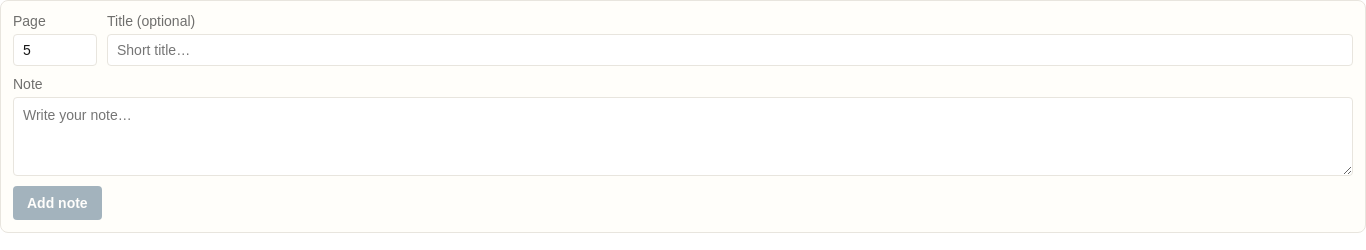
Test: NoteForm › submit button is enabled when content is filled in
Step 1. Type "Some content" into the text box labelled "Note" → (683, 137), box [13, 97, 1353, 176]
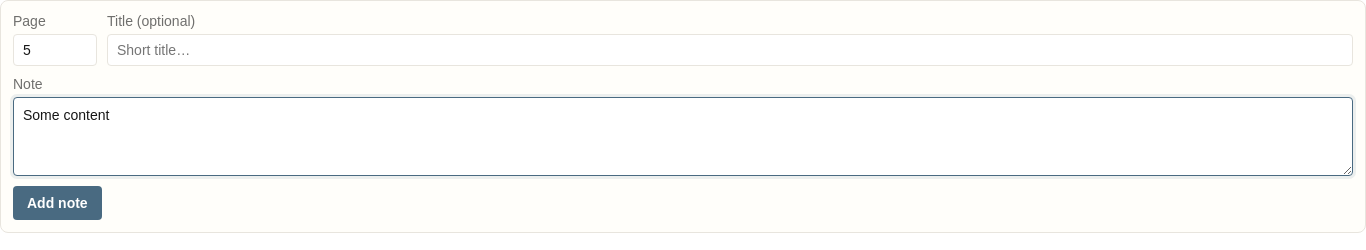
Now the button "Add note" is enabled, box [13, 186, 102, 220]
